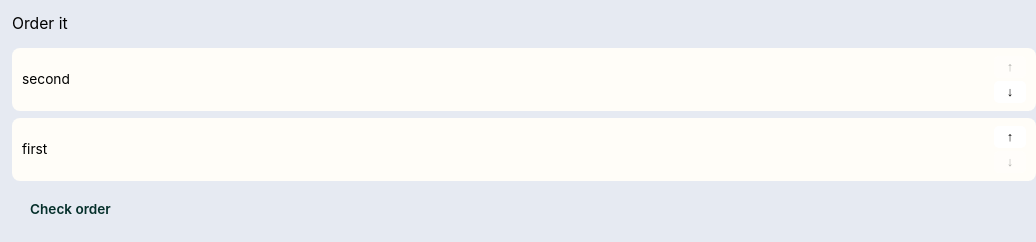
Test case: ProofOrderQuestion keyboard reorder (a11y) › reordering via the up button produces a valid order and grades true
Click the button named "move step 2 up".
click(1010, 137)  # box [994, 126, 1026, 148]
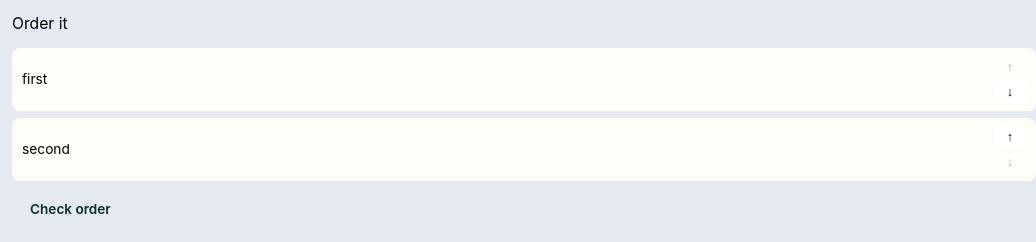
Click the button "Check order".
click(70, 209)  # box [12, 193, 129, 225]
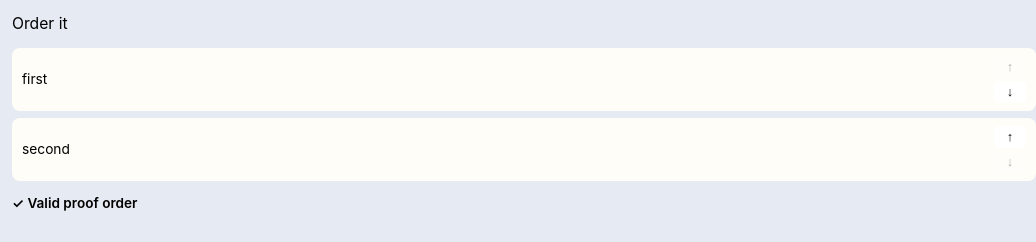
Result: the text "✓ Valid proof order" is shown at [12, 195, 138, 211]
